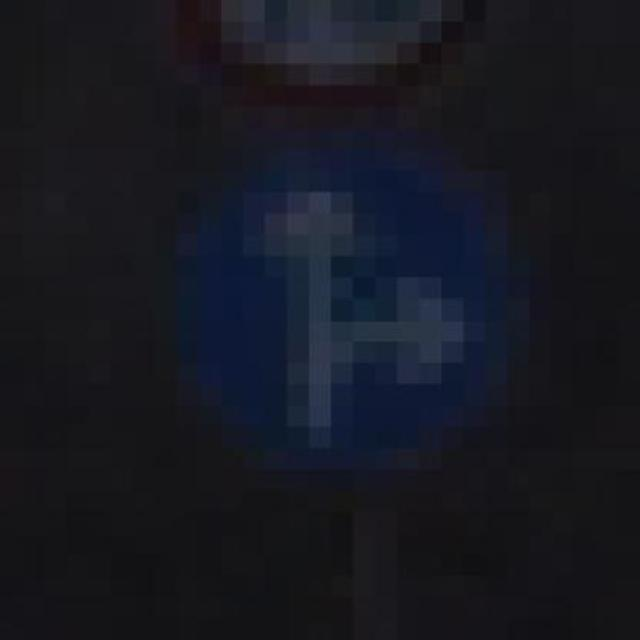Go Straight or Turn Right: (154, 128, 552, 512)
